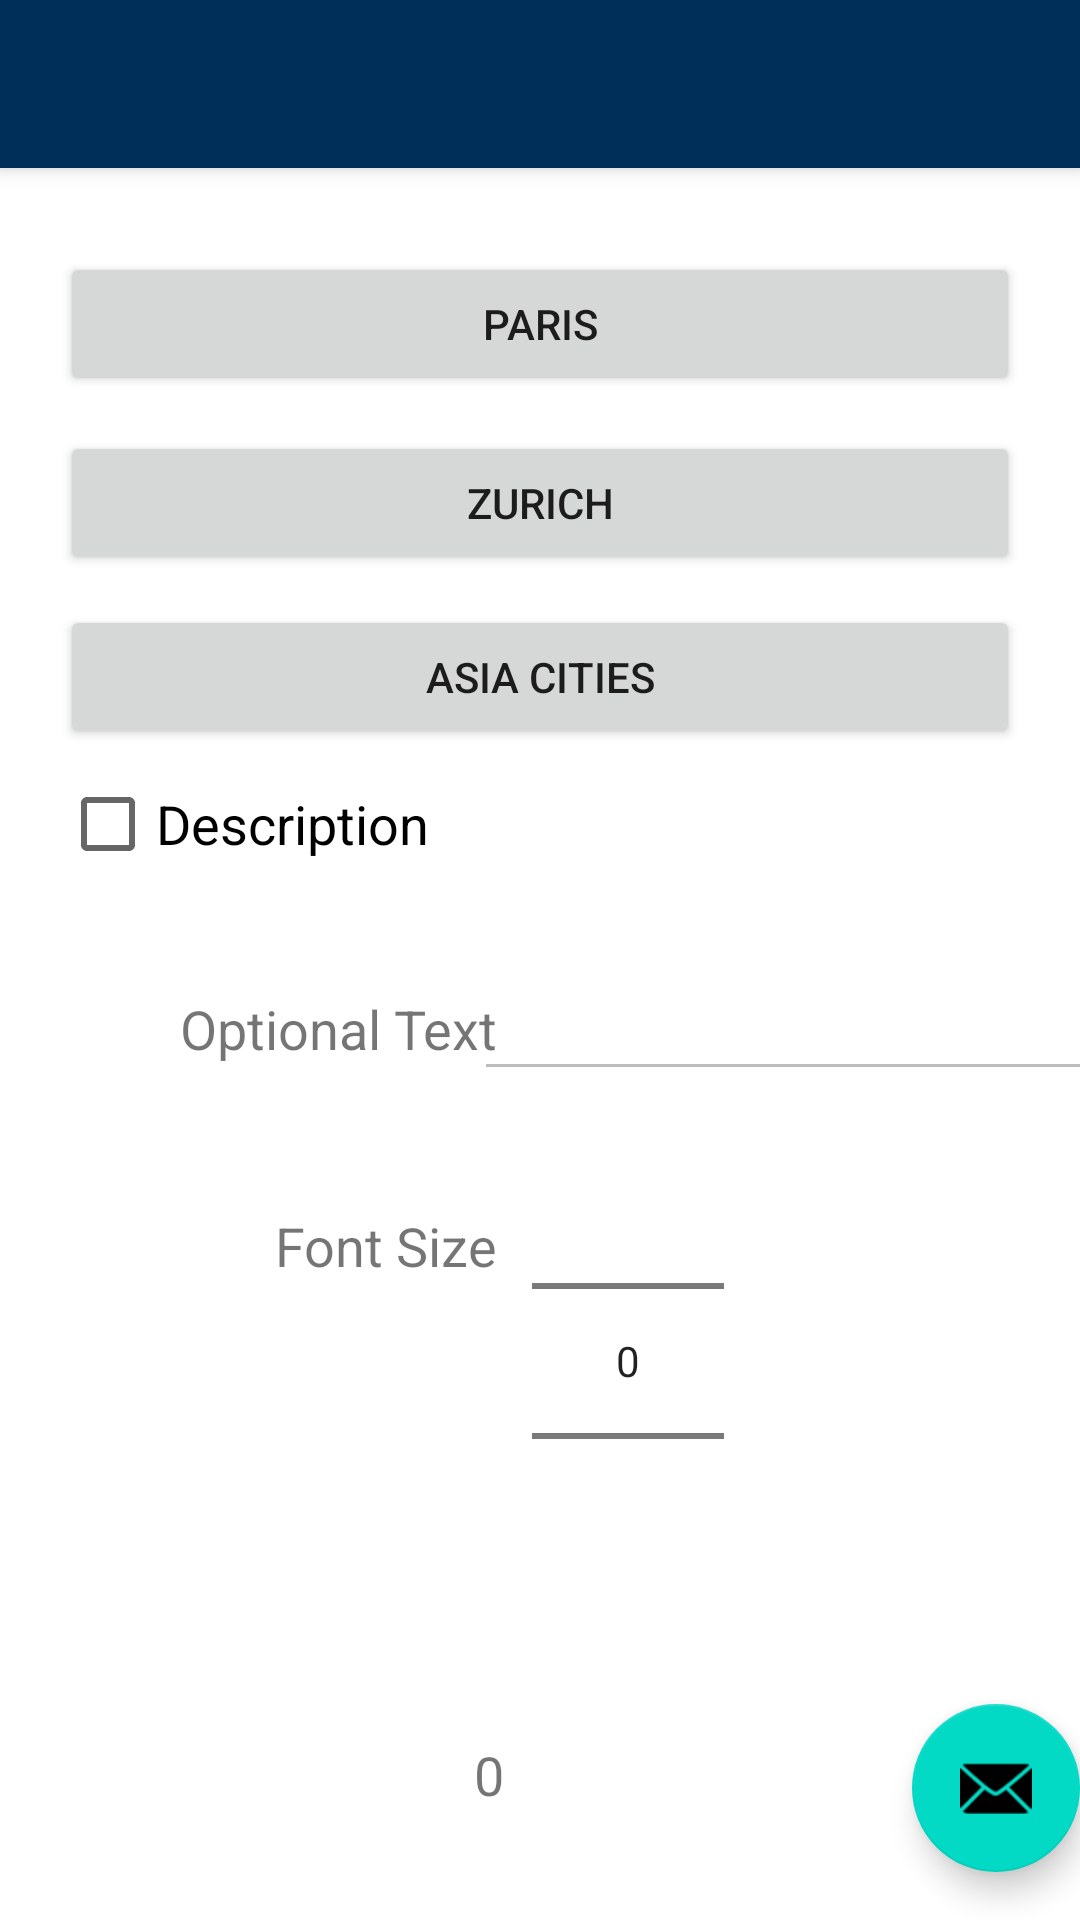

Screen size 1080×1920. Icon name, then its center in pixels as (x,y):
email: (996,1788)
